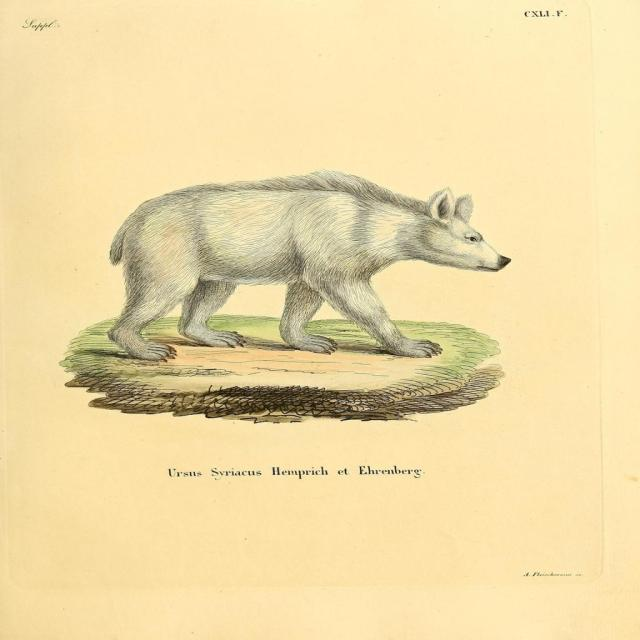Buffalo: (106, 167, 509, 362)
